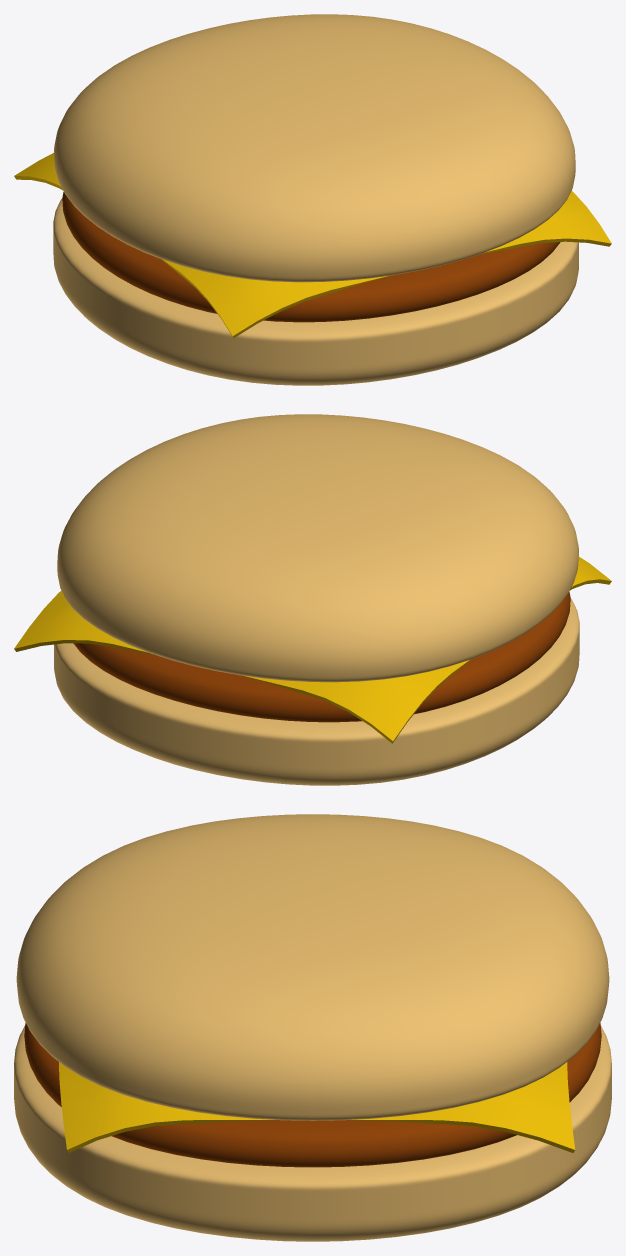
File: hamburger.glb
3 renders of one model, top to bottom at view 1: azimuth 30°, elevation 25°; view 2: azimuth 150°, elevation 25°; view 3: azimuth 270°, elevation 25°, orthographic. The views are drawn at different scales.
Visible parts, largest first — view 1: Cube.002, Cube, Cube.001, Plane; view 2: Cube.002, Cube, Cube.001, Plane; view 3: Cube.002, Cube, Cube.001, Plane.
Boxes of the visible parts, x1=… form: Cube.002: x1=54, y1=14, x2=575, y2=282; Cube: x1=53, y1=198, x2=578, y2=385; Cube.001: x1=62, y1=192, x2=560, y2=322; Plane: x1=14, y1=153, x2=611, y2=338; Cube.002: x1=57, y1=414, x2=578, y2=682; Cube: x1=54, y1=598, x2=579, y2=785; Cube.001: x1=73, y1=591, x2=570, y2=722; Plane: x1=14, y1=556, x2=611, y2=743; Cube.002: x1=16, y1=814, x2=609, y2=1120; Cube: x1=14, y1=1025, x2=611, y2=1241; Cube.001: x1=24, y1=1023, x2=601, y2=1167; Plane: x1=59, y1=1062, x2=575, y2=1152.
Bounding box in the file's own units: 9.1 × 4.37 × 9.1.
